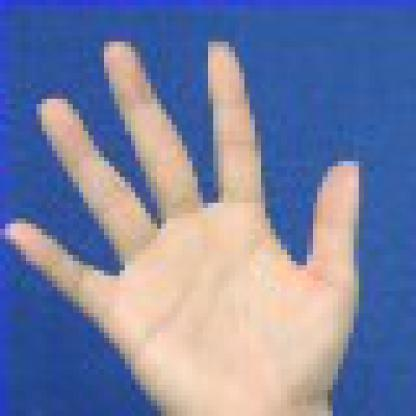five: (0, 34, 371, 416)
